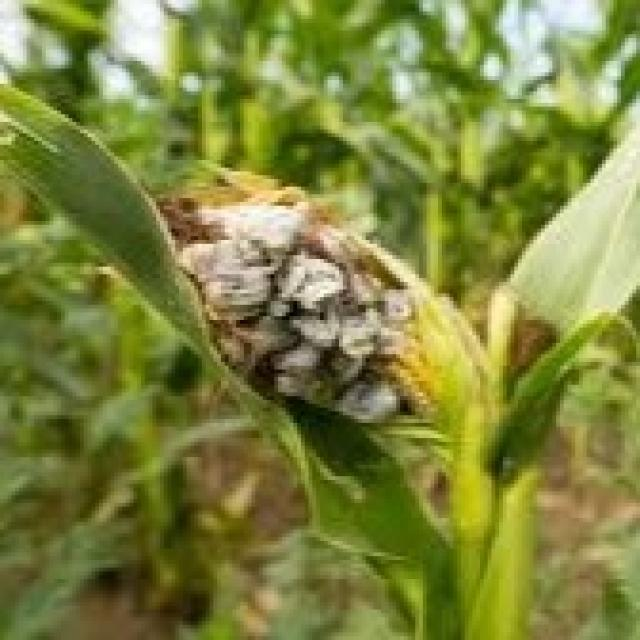Leaf_Scald: (114, 144, 462, 486)
